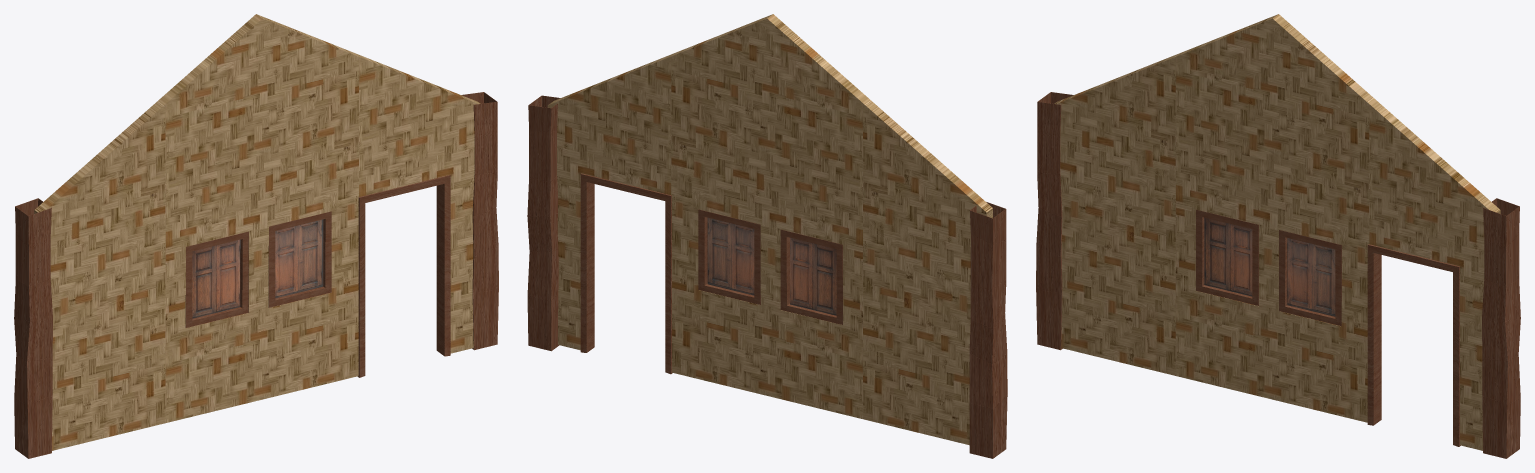
The model's file is R4_Depan.fbx.
3 renders of one model, left to right at view 1: azimuth 30°, elevation 25°; view 2: azimuth 150°, elevation 25°; view 3: azimuth 330°, elevation 25°, orthographic.
Parts seen in each view (by area): view 1: T_Depan_R4; view 2: T_Depan_R4; view 3: T_Depan_R4.
Boxes of the visible parts, bbox=[...] form: T_Depan_R4: bbox=[14, 14, 498, 458]; T_Depan_R4: bbox=[527, 14, 1007, 458]; T_Depan_R4: bbox=[1036, 14, 1520, 458].
Bounding box in the file's own units: 13.03 × 10.11 × 0.6784.
Materials: 3 (3 with a texture image).
